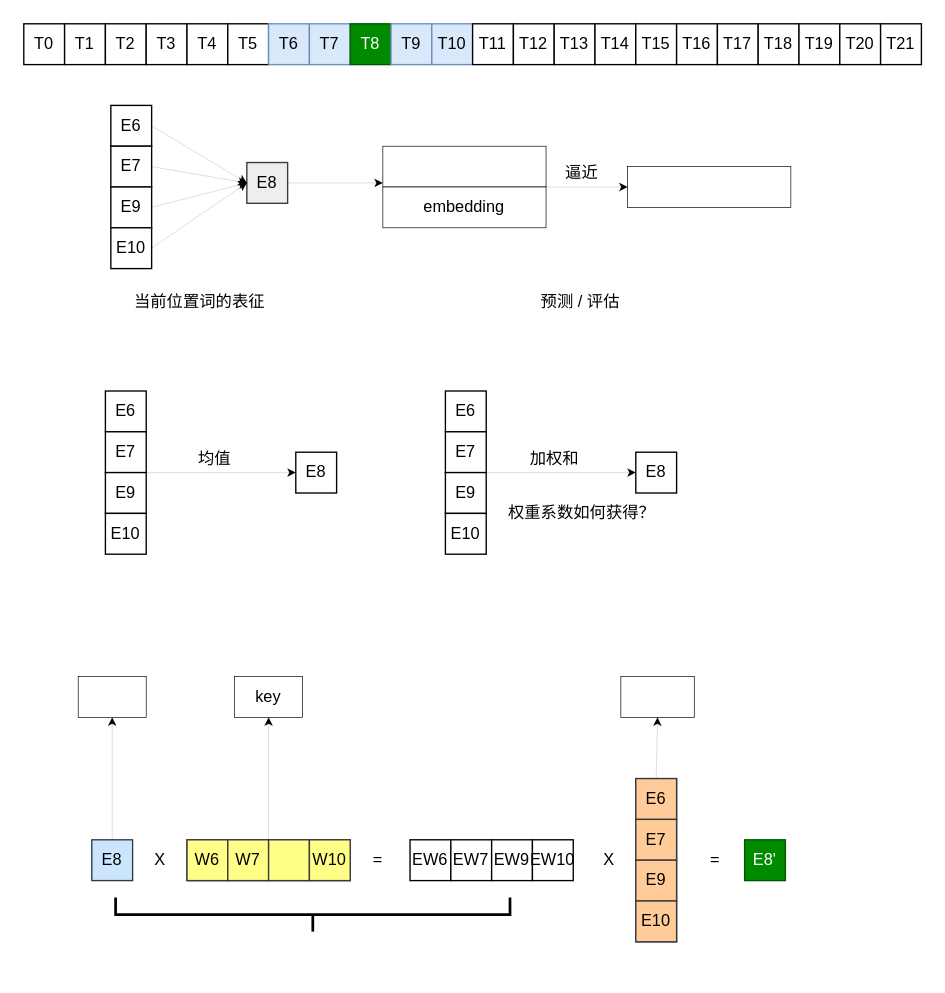
Image size: 945x993. Some labels were removed from this diagram. Here are the shapes that lost their labels. From the top down, the box of each, then its label:
(382, 145, 546, 187): weight matrix
(627, 166, 791, 207): one hot label
(77, 676, 146, 717): query
(620, 676, 694, 717): value
(267, 838, 309, 881): W9
(114, 896, 511, 932): 获得权重系数
